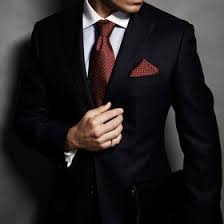tie: (86, 18, 122, 109)
